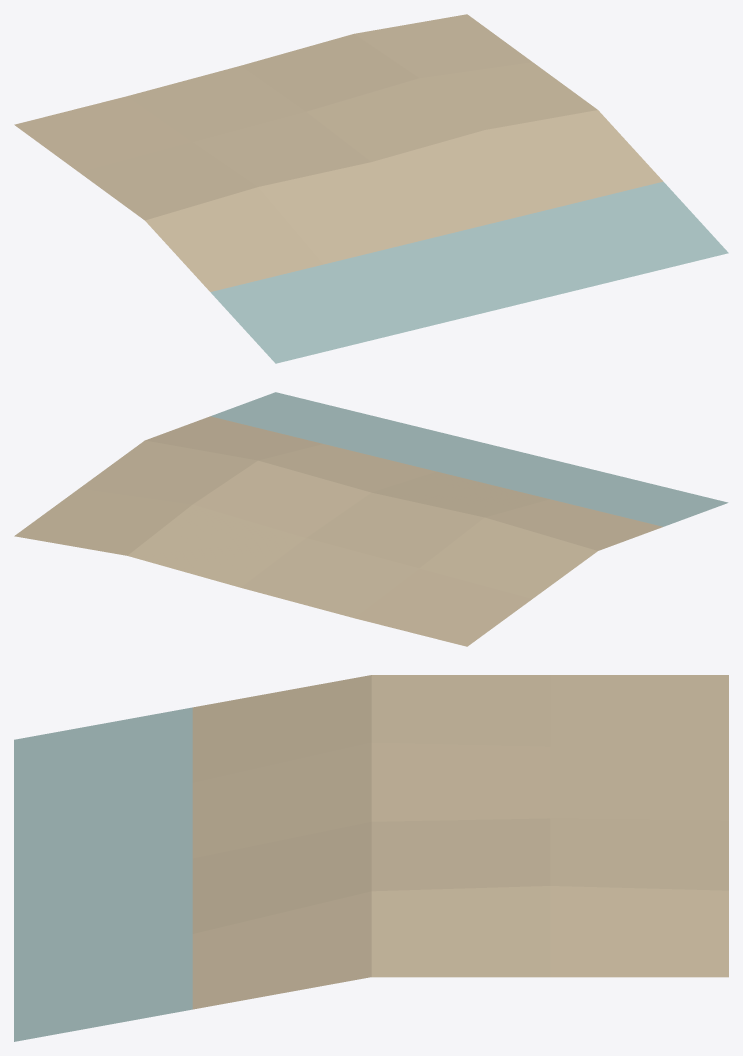
The model's file is Tile_24_Beach_Edge.glb.
3 views of the same model, one above another, from view 1: azimuth 30°, elevation 25°; view 2: azimuth 150°, elevation 25°; view 3: azimuth 270°, elevation 25° (orthographic). The views are drawn at different scales.
Parts seen in each view (by area): view 1: Tile_Beach_Edge; view 2: Tile_Beach_Edge; view 3: Tile_Beach_Edge.
Boxes of the visible parts, box(x1,y1,x2,y2) form: Tile_Beach_Edge: box(14, 14, 728, 363); Tile_Beach_Edge: box(14, 392, 728, 646); Tile_Beach_Edge: box(14, 675, 728, 1041).
Size of the model in its own units: 0.2 by 0.0249 by 0.2.
